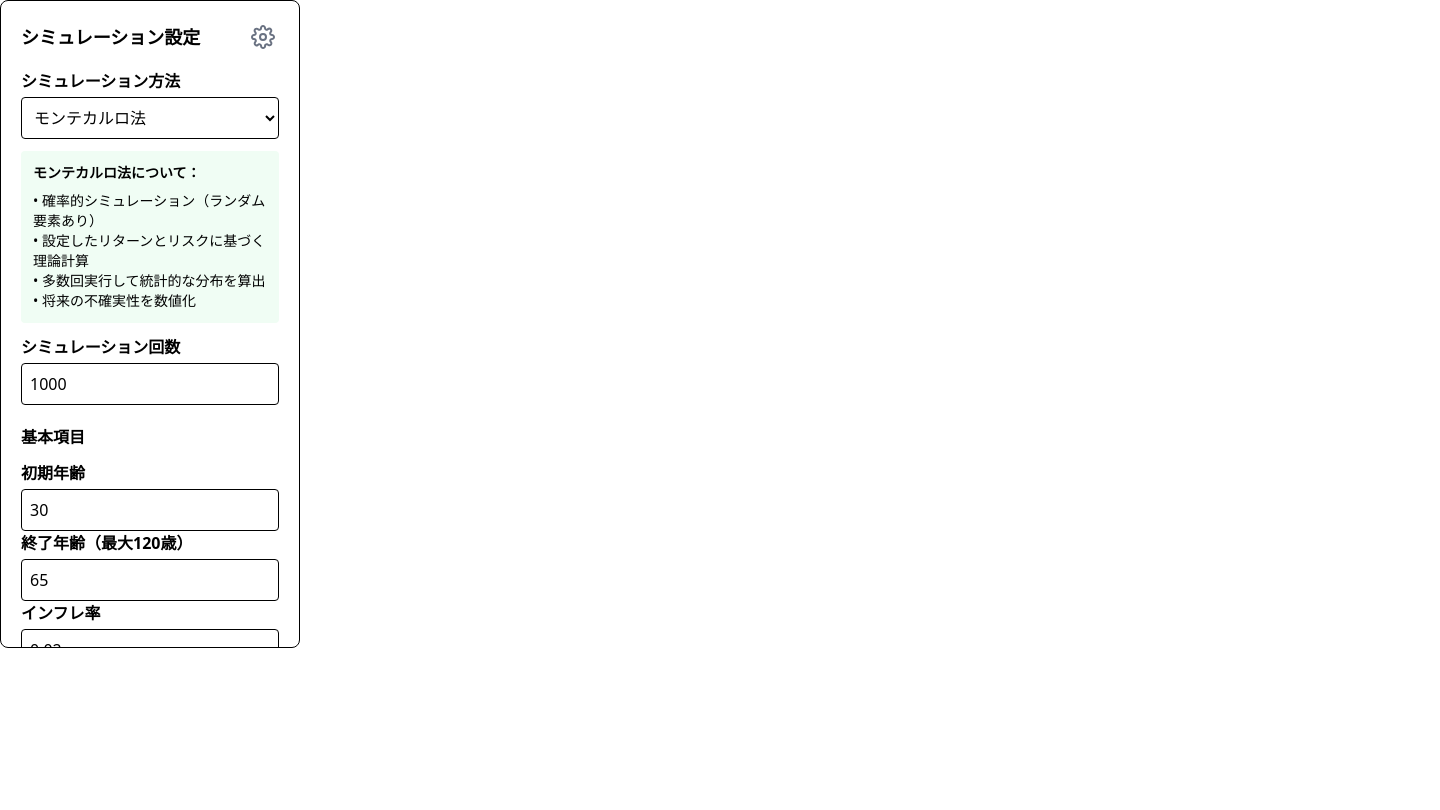
Test: InputPanel Component › opens settings modal when icon is clicked
Step 1. Click the button named "設定を開く" → point(263, 37), box 247,21 -> 279,53
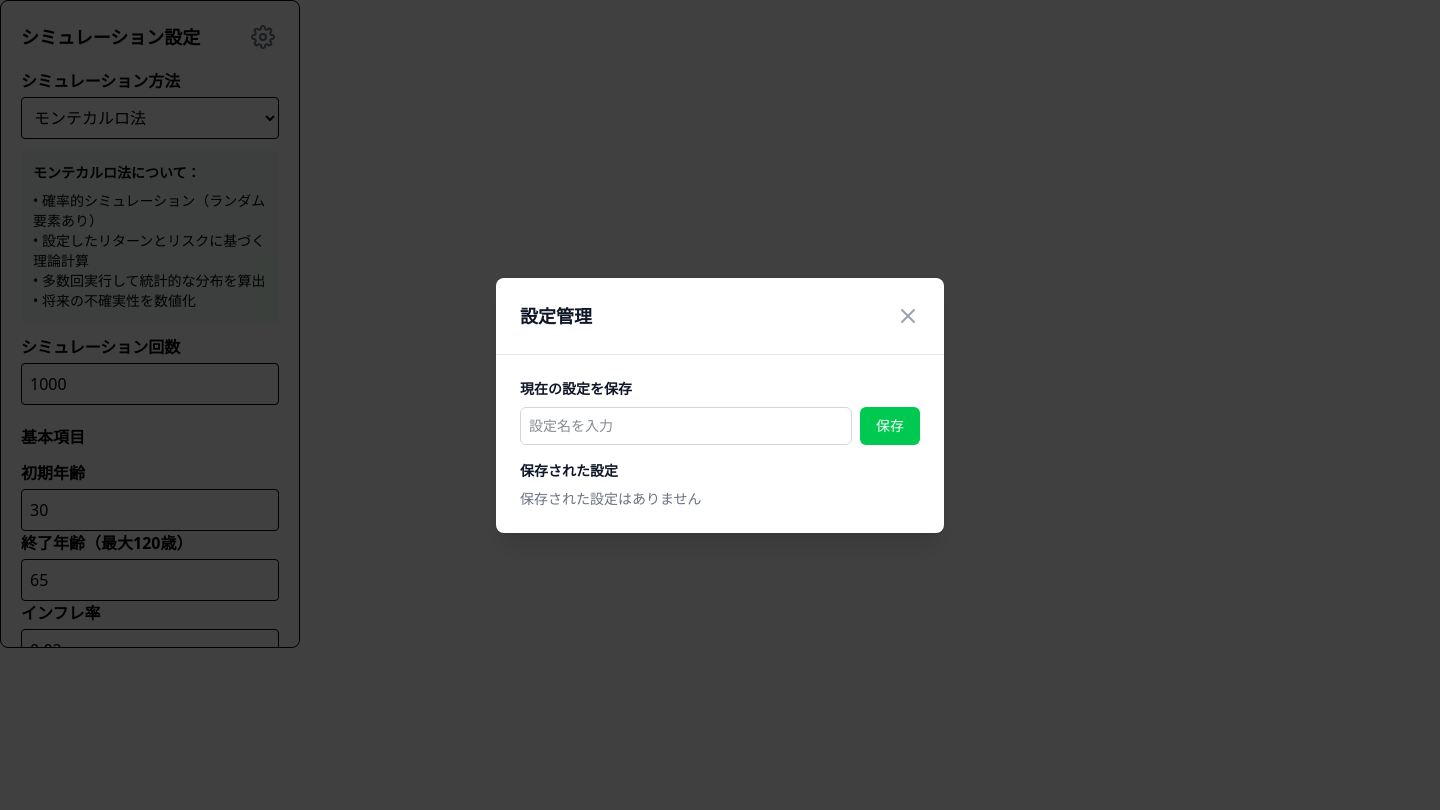
expect the heading "設定管理" is shown: met, box 520,302 -> 592,330
